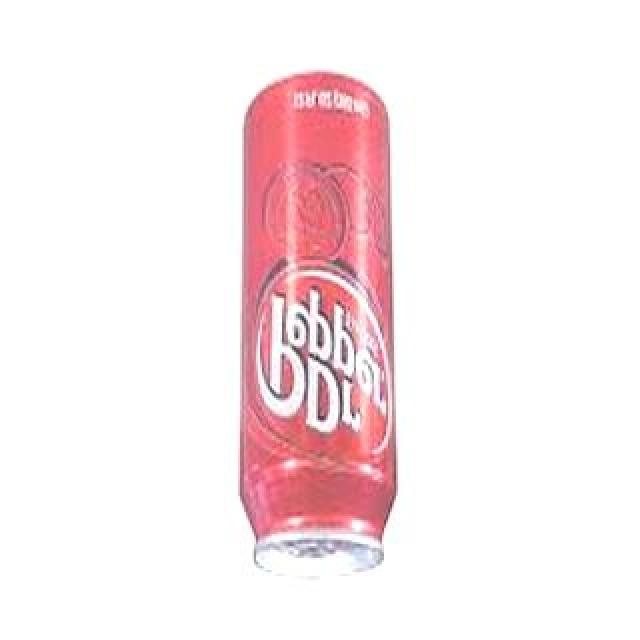Can: (233, 62, 401, 586)
